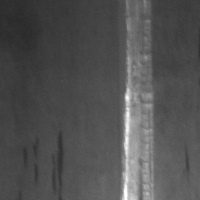inclusion: (49, 129, 67, 194), (21, 134, 41, 185), (179, 145, 193, 180)
scratches: (123, 1, 158, 200)
